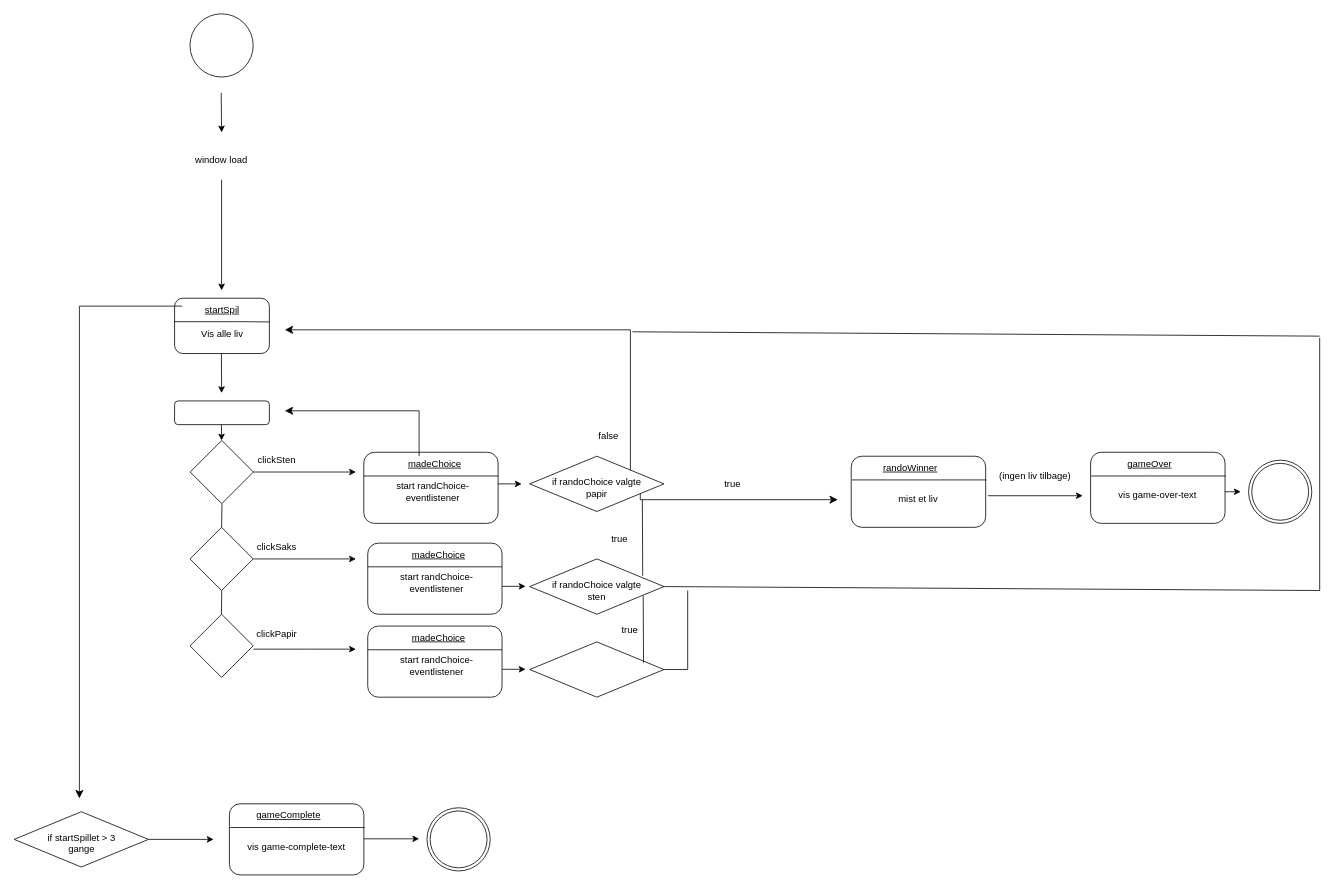
Some shapes in this 1334 by 889 pixel diagram are drawn without their labels. The shapes that lost their labels are listed below. From the top down, each one's centre as x and y in pixels, then its label:
At point 221,412: "Vælg sten. saks eller papir".
At point 596,669: "if randoChoice valgte saks".
